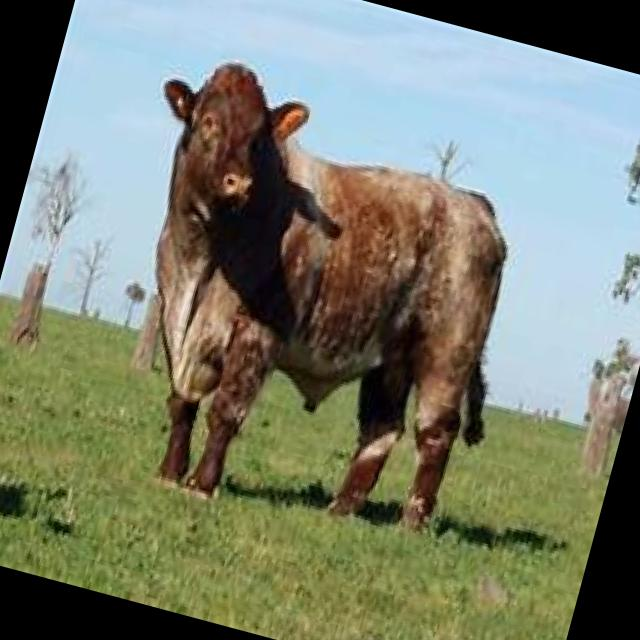cow: (68, 46, 554, 548)
